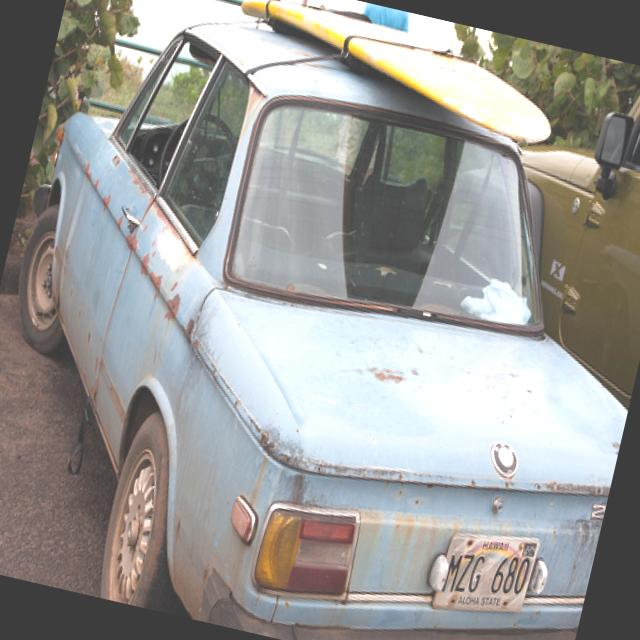Vehicle: (0, 0, 640, 640), (474, 45, 640, 418)
